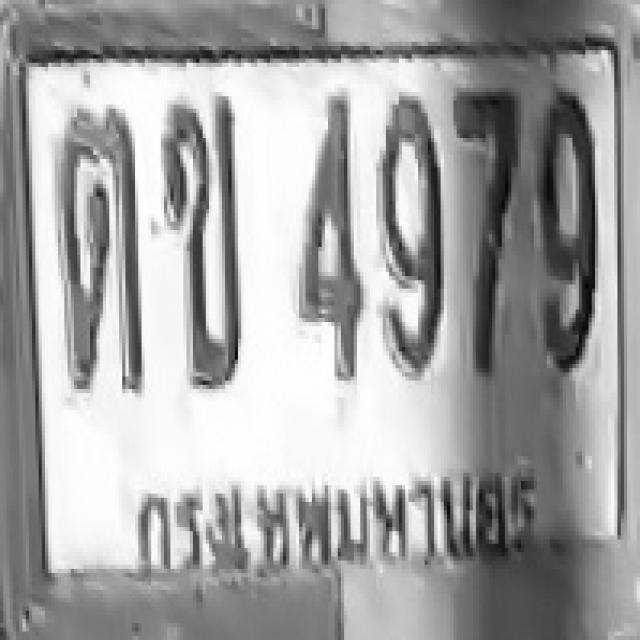4: (294, 90, 365, 383)
7: (453, 85, 518, 358)
9: (376, 94, 444, 379), (536, 88, 596, 372)
Bangkok: (121, 450, 558, 569)
